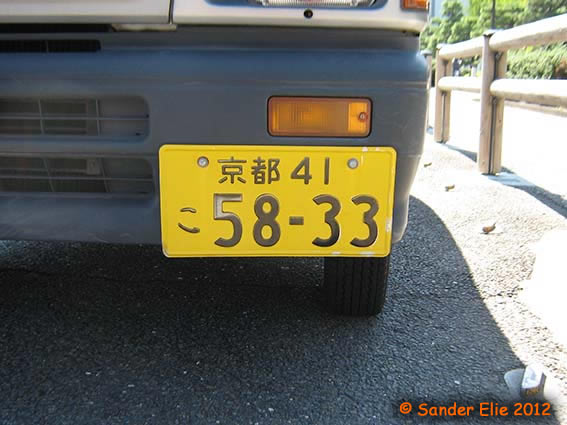license plate: (156, 140, 399, 261)
